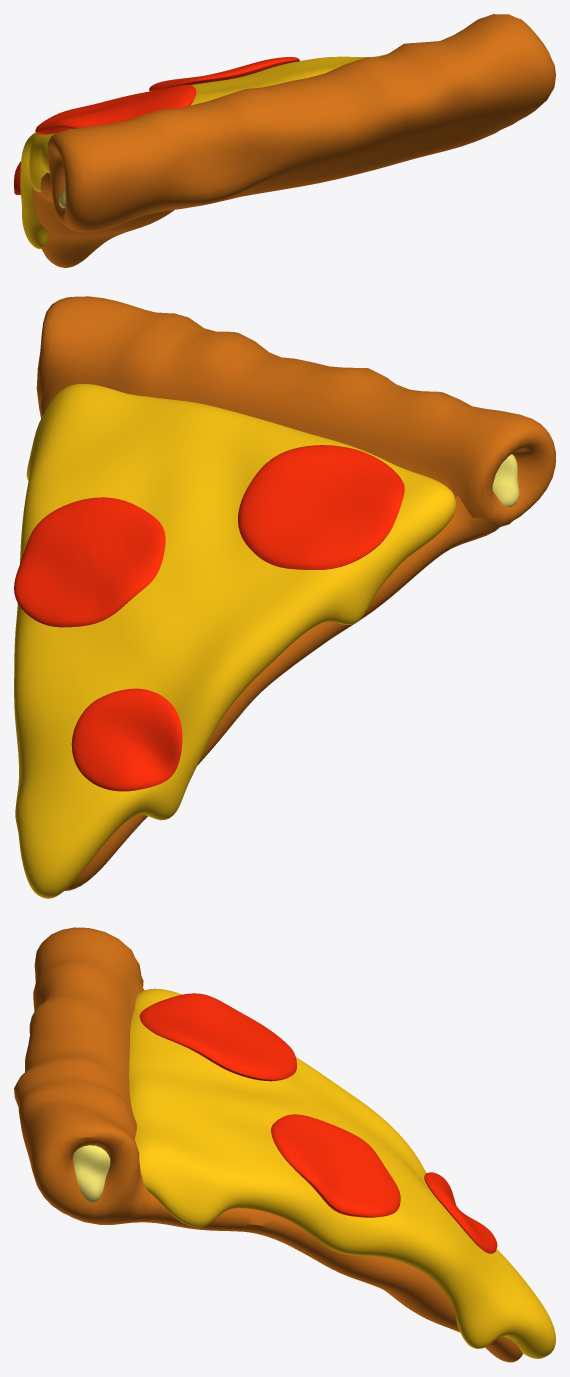
The model's file is PIZZA.fbx.
3 views of the same model, one above another, from view 1: azimuth 30°, elevation 25°; view 2: azimuth 150°, elevation 25°; view 3: azimuth 270°, elevation 25° (orthographic). The views are drawn at different scales.
Visible parts, largest first — view 1: BREAD, CHEESE_2, PEPPERONI, PEPPERONI_2; view 2: CHEESE_2, BREAD, PEPPERONI, PEPPERONI_2, PEPPERONI_3, CHEESE; view 3: CHEESE_2, BREAD, PEPPERONI_2, PEPPERONI, PEPPERONI_3, CHEESE.
Part boxes in pixels (x1=…): BREAD: x1=32, y1=14, x2=555, y2=267; CHEESE_2: x1=20, y1=55, x2=384, y2=248; PEPPERONI: x1=35, y1=85, x2=196, y2=134; PEPPERONI_2: x1=149, y1=57, x2=299, y2=91; CHEESE_2: x1=14, y1=384, x2=455, y2=898; BREAD: x1=36, y1=296, x2=555, y2=890; PEPPERONI: x1=238, y1=445, x2=404, y2=569; PEPPERONI_2: x1=14, y1=497, x2=165, y2=627; PEPPERONI_3: x1=71, y1=688, x2=182, y2=791; CHEESE: x1=492, y1=454, x2=519, y2=506; CHEESE_2: x1=129, y1=988, x2=555, y2=1358; BREAD: x1=14, y1=927, x2=522, y2=1362; PEPPERONI_2: x1=271, y1=1114, x2=400, y2=1217; PEPPERONI: x1=139, y1=993, x2=296, y2=1081; PEPPERONI_3: x1=424, y1=1172, x2=497, y2=1253; CHEESE: x1=73, y1=1145, x2=110, y2=1202.
Size of the model in its own units: 106 by 74.06 by 106.
